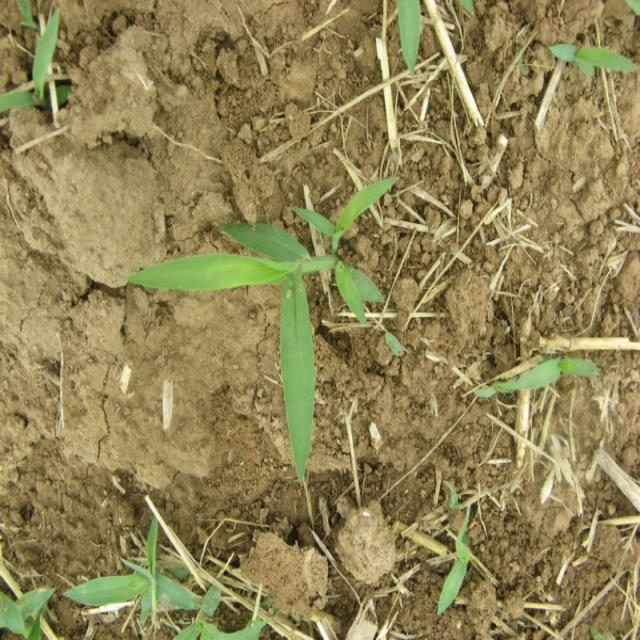bg: (124, 180, 398, 484)
